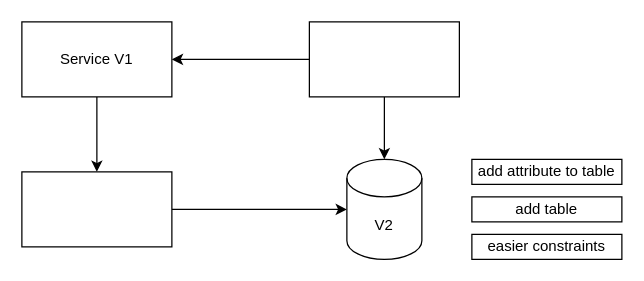
The diagram is 644 pixels wide and 281 high, and some of its shapes have lost their labels. The centre of each missing label's shape, as x and y in pixels:
Migration Proxy: [383,59]
Service V2: [96,209]
